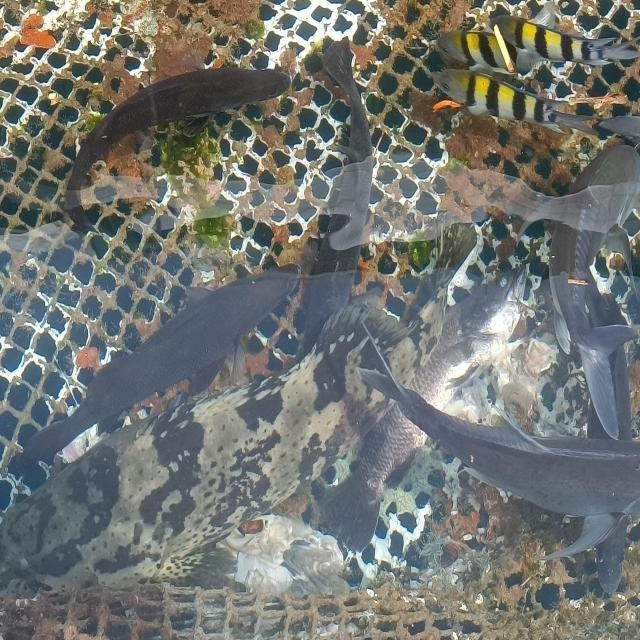ikan: (35, 259, 298, 465), (52, 51, 290, 222), (306, 26, 374, 261), (430, 60, 565, 128), (486, 14, 636, 65)
